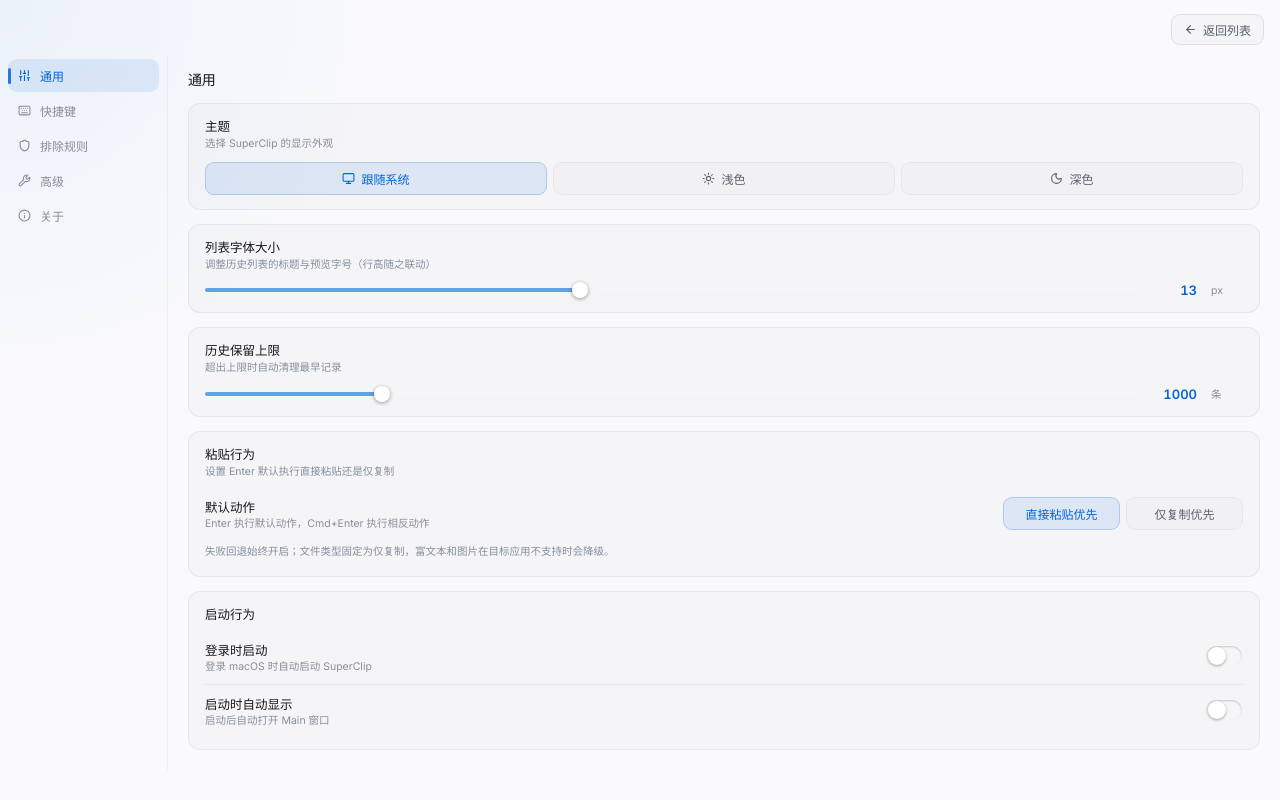
Test case: SettingsShell (F2 分区化) › 关于分区展示版本、Schema 与帮助入口
What coordinates should you click on to do the following:
click the button "关于"
I would click on:
 (84, 216)
Its box is [8,199,159,232].
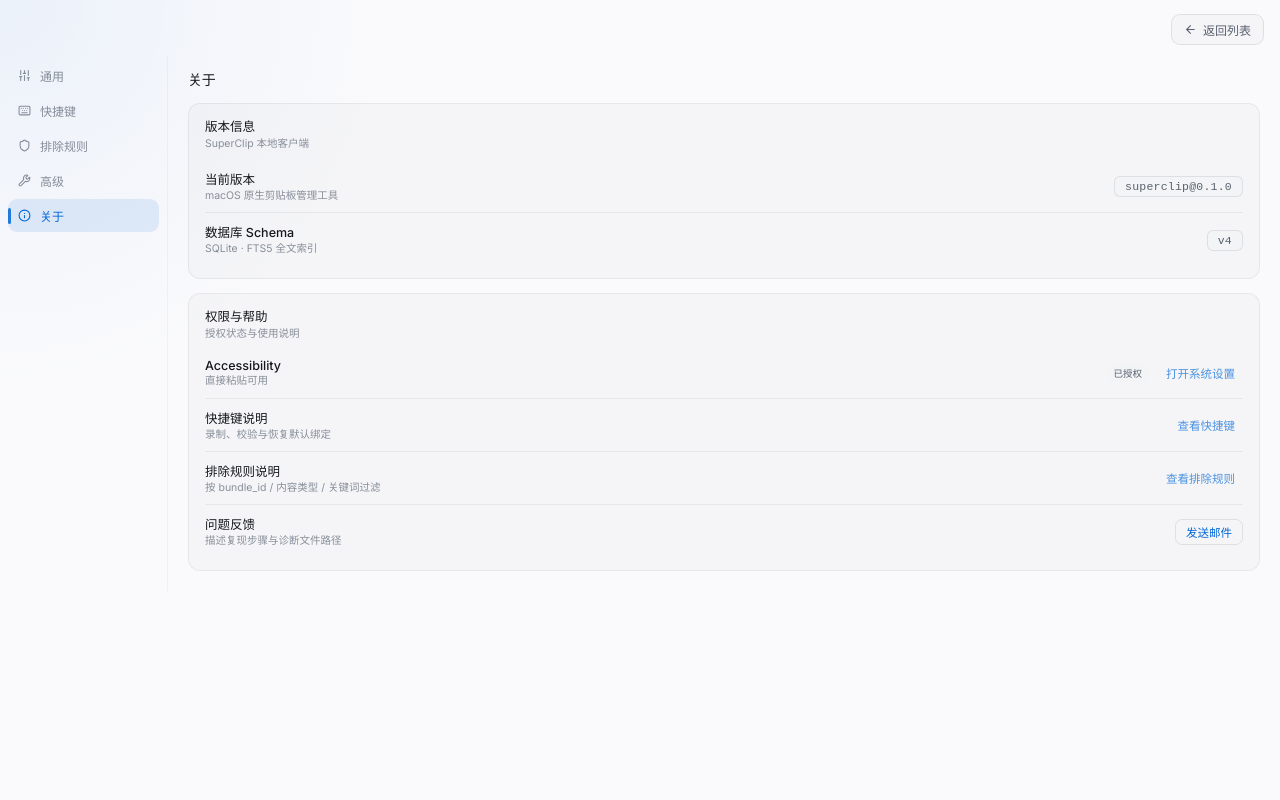
Now the heading "版本信息" is shown, box [205,119,255,134]
Now the text "数据库 Schema" is shown, box [205,225,294,240]
Now the button "查看快捷键" is shown, box [1170,413,1243,437]
